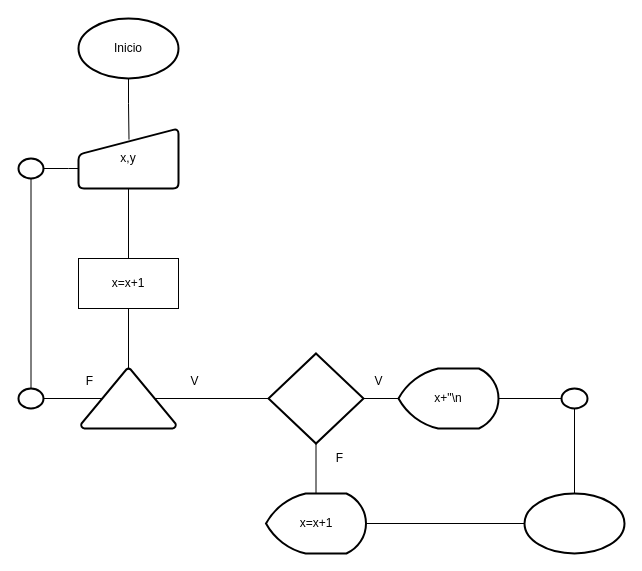
This 642x571 diagram has some shape labels left out. The shapes that lost their labels are listed below. From the top down, each one's box as (x1, y1, x2, y2) in pixels, then its label:
(80, 367, 176, 429): x<y
(267, 352, 364, 444): x%5==2 ou x%5==3
(523, 492, 625, 554): Fim
